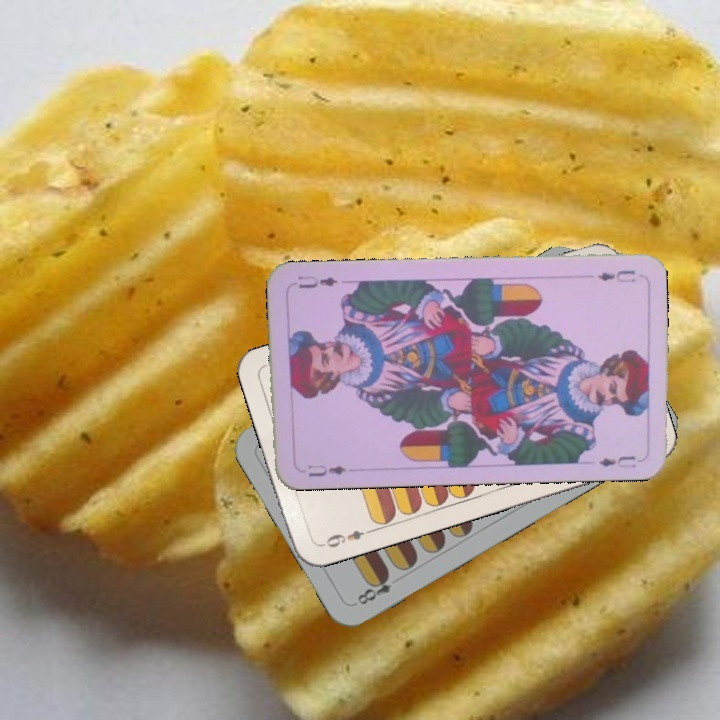E8: (353, 568, 395, 608)
E9: (317, 525, 375, 551)
EU: (593, 266, 638, 286), (303, 461, 349, 479)
